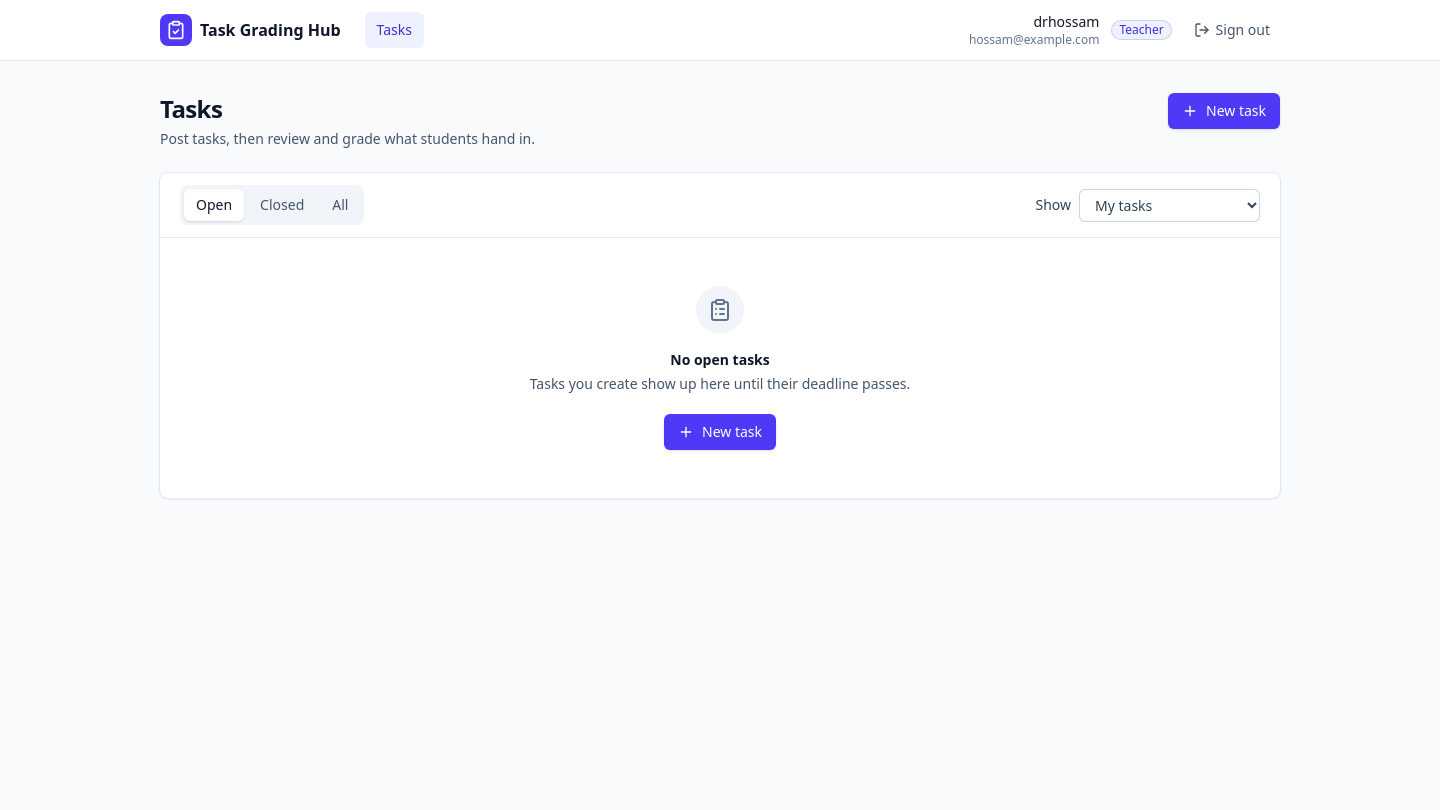
sign in › keeps a stored session across reloads, and signs out on request
The width and height of the screenshot is (1440, 810).
Expected: the heading "Tasks" is shown, [160, 92, 222, 125]
Step 1. Click the button "Sign out" → (1232, 30), box [1184, 14, 1280, 46]
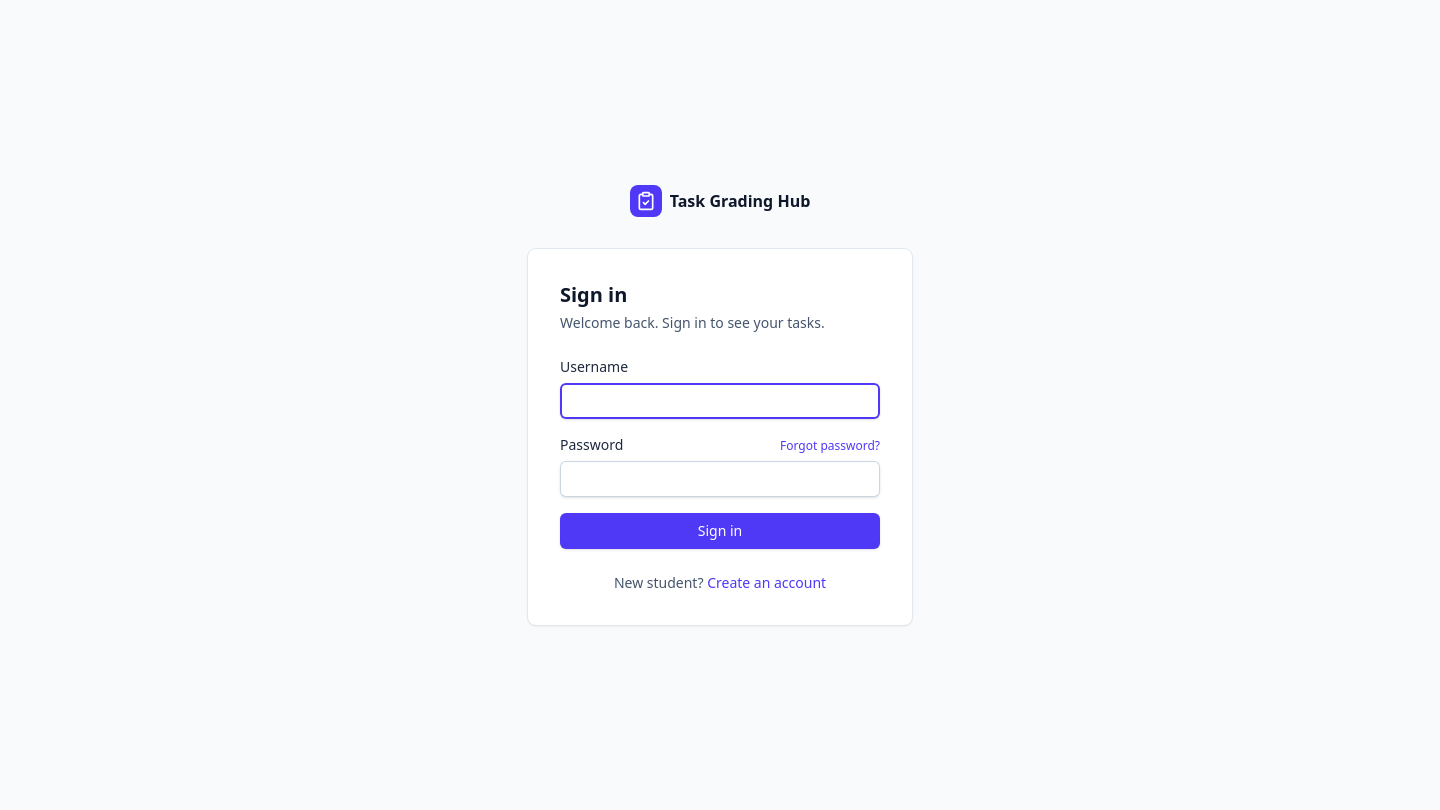
Now the heading "Sign in" is shown, box [560, 281, 627, 308]
